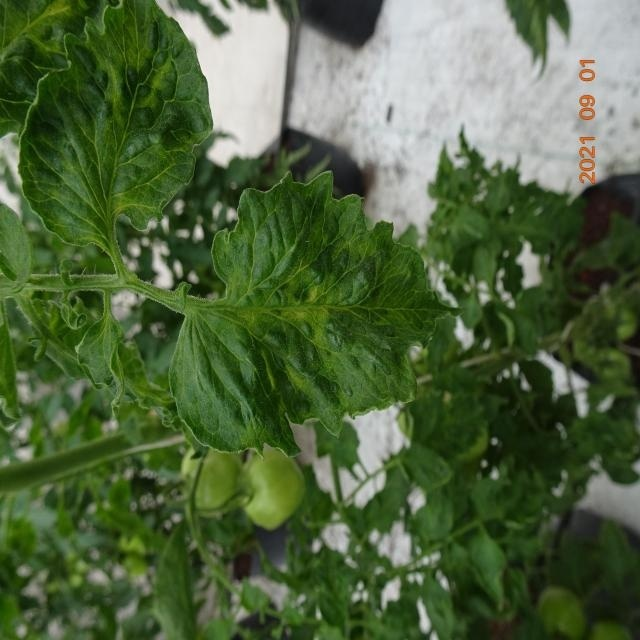T_L_R: (170, 174, 451, 456), (20, 3, 214, 276)
T_S_R: (25, 269, 186, 314)
